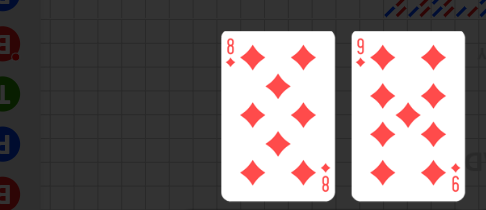8D: (225, 37, 236, 69)
9D: (450, 161, 461, 193)
